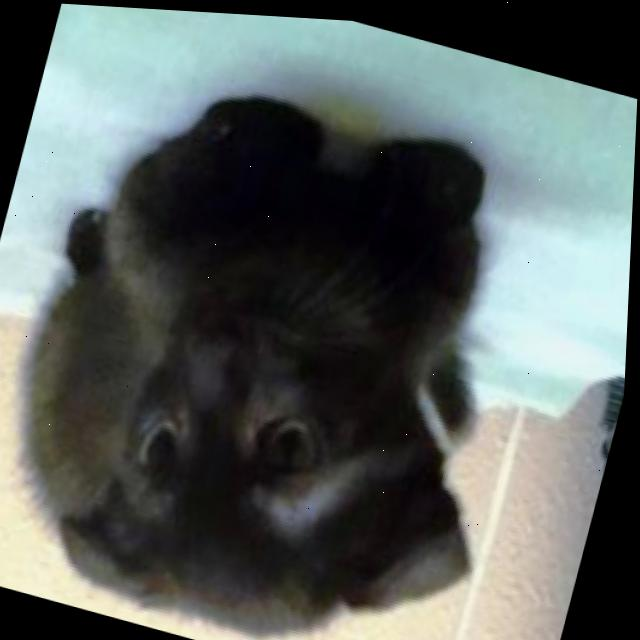Scottish Fold: (0, 36, 584, 640)
